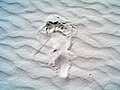human_footprint: (38, 15, 76, 77)
